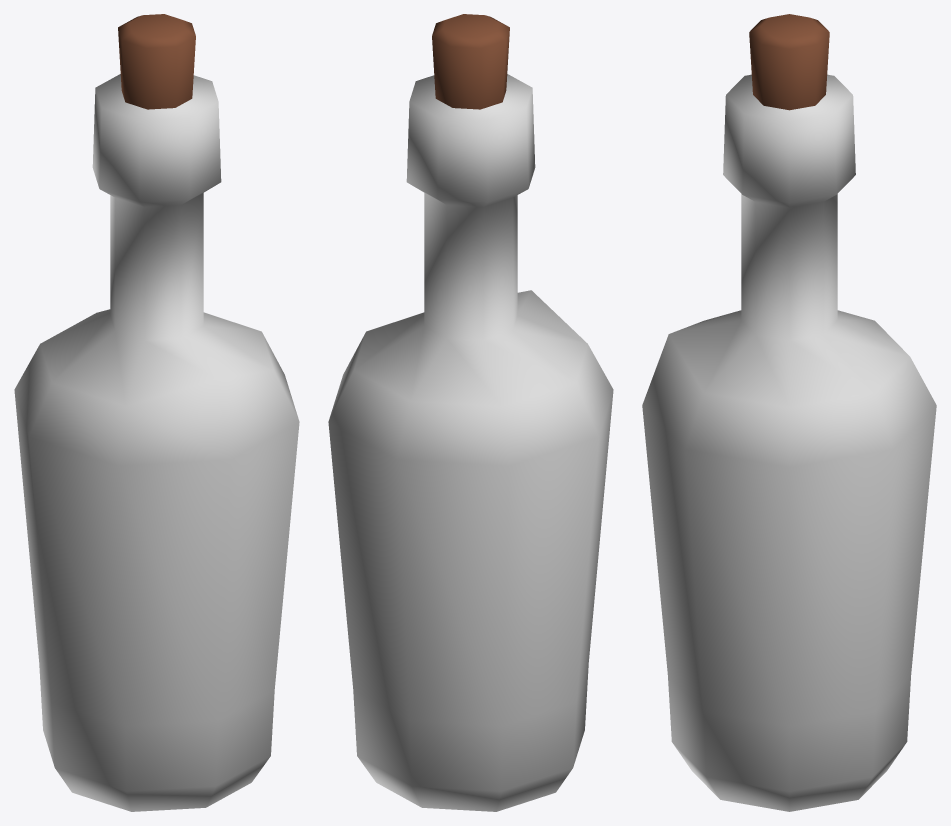
File: Assets - Bottle1.0 .fbx
3 renders of one model, left to right at view 1: azimuth 30°, elevation 25°; view 2: azimuth 150°, elevation 25°; view 3: azimuth 270°, elevation 25°, orthographic.
Parts seen in each view (by area): view 1: bottle; view 2: bottle; view 3: bottle.
Part boxes in pixels (x1,y1,x2,y2): bottle: (14,14,299,811); bottle: (328,14,613,811); bottle: (642,14,936,811).
Size of the model in its own units: 102 by 284 by 102.
